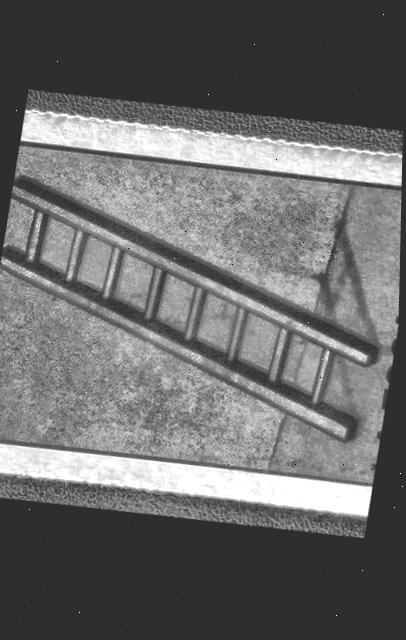La Escalera: (0, 112, 404, 514)
